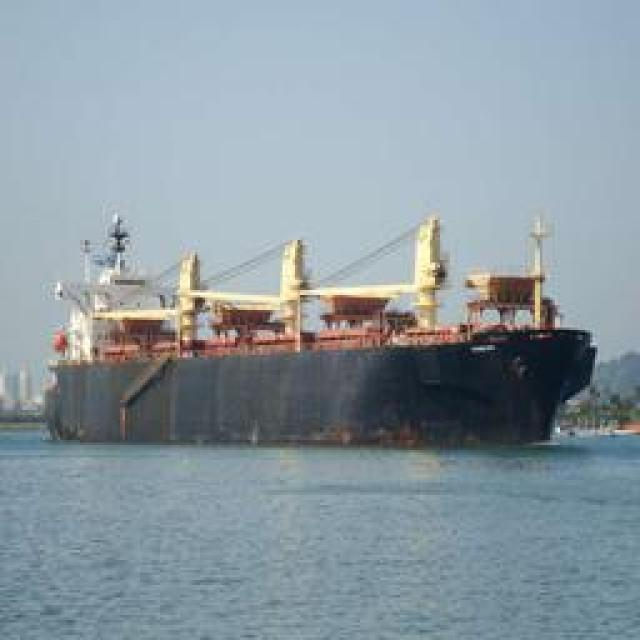CIV_Ship: (48, 206, 598, 436)
